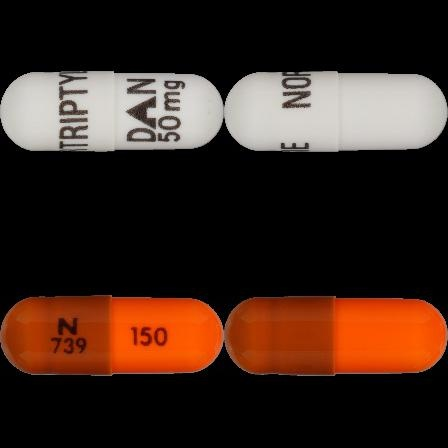49999-915: (0, 0, 224, 224)
